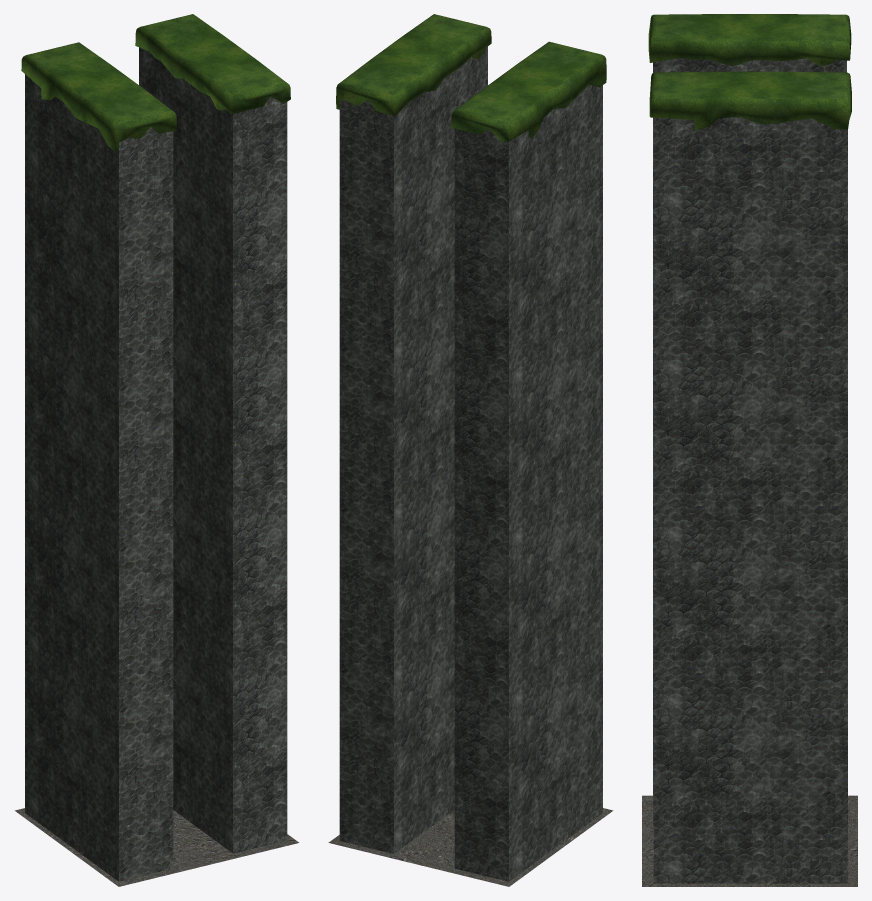
The model's file is predio_07.gltf.
3 views of the same model, side by side, from view 1: azimuth 30°, elevation 25°; view 2: azimuth 150°, elevation 25°; view 3: azimuth 270°, elevation 25° (orthographic). The views are drawn at different scales.
Parts seen in each view (by area): view 1: edificio_07_II, chao; view 2: edificio_07_II, chao; view 3: edificio_07_II, chao.
Part boxes in pixels (bbox=[...]): edificio_07_II: bbox=[21, 14, 290, 881]; chao: bbox=[15, 808, 298, 886]; edificio_07_II: bbox=[336, 14, 606, 881]; chao: bbox=[328, 808, 613, 886]; edificio_07_II: bbox=[648, 14, 851, 883]; chao: bbox=[642, 795, 857, 886].
Bounding box in the file's own units: 50 × 201 × 50.
Materials: 3 (3 with a texture image).
